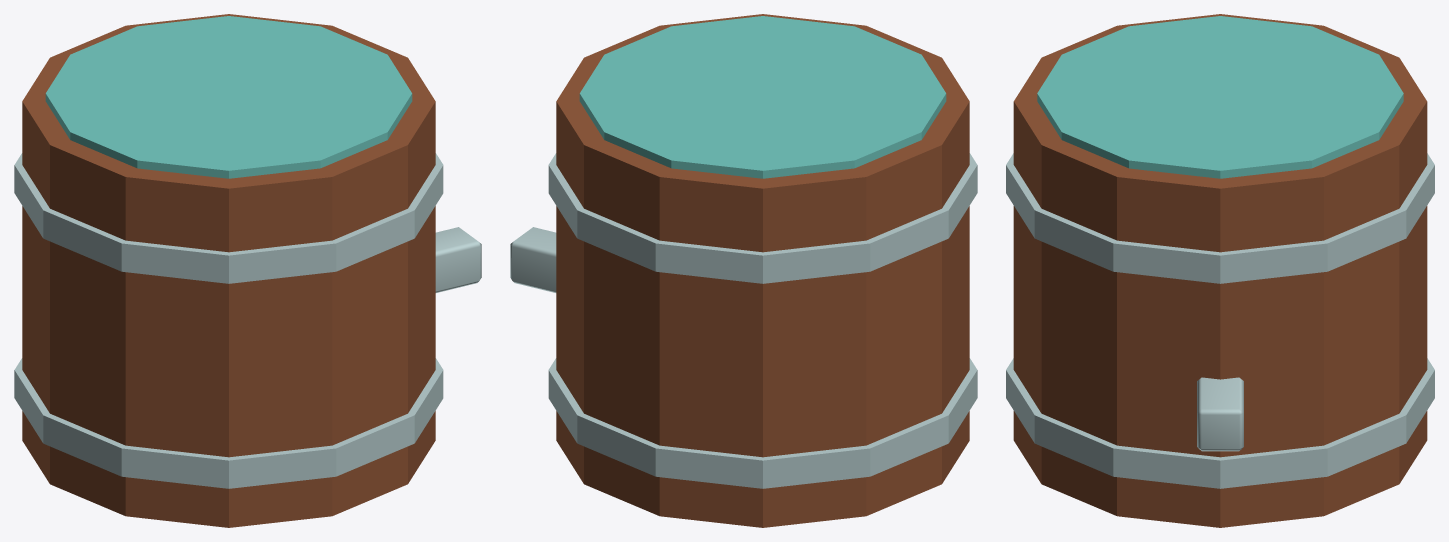
File: cistern.glb
3 renders of one model, left to right at view 1: azimuth 30°, elevation 25°; view 2: azimuth 150°, elevation 25°; view 3: azimuth 270°, elevation 25°, orthographic.
Visible parts, largest first — view 1: Tank, Water, Band.001, Band, Outlet; view 2: Tank, Water, Band.001, Band, Outlet; view 3: Tank, Water, Band.001, Band, Outlet.
Part boxes in pixels (<box>): Tank: <box>22,14,435,527</box>; Water: <box>45,16,412,178</box>; Band.001: <box>14,153,443,283</box>; Band: <box>14,358,443,488</box>; Outlet: <box>435,227,481,292</box>; Tank: <box>556,14,969,527</box>; Water: <box>579,16,946,178</box>; Band.001: <box>548,153,977,283</box>; Band: <box>548,358,977,488</box>; Outlet: <box>510,227,556,292</box>; Tank: <box>1013,14,1427,527</box>; Water: <box>1037,16,1403,178</box>; Band.001: <box>1006,153,1434,283</box>; Band: <box>1006,358,1434,488</box>; Outlet: <box>1197,377,1243,451</box>.
Size of the model in its own units: 1.27 by 0.9825 by 1.1.
